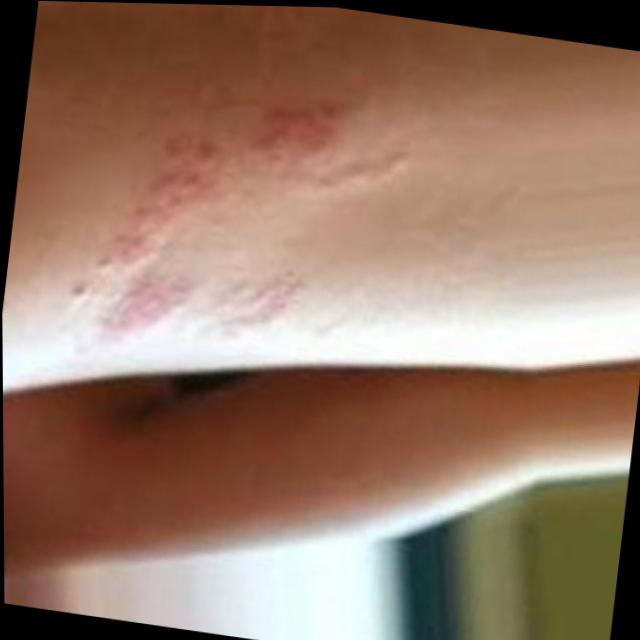Shingles: (91, 62, 358, 379)
